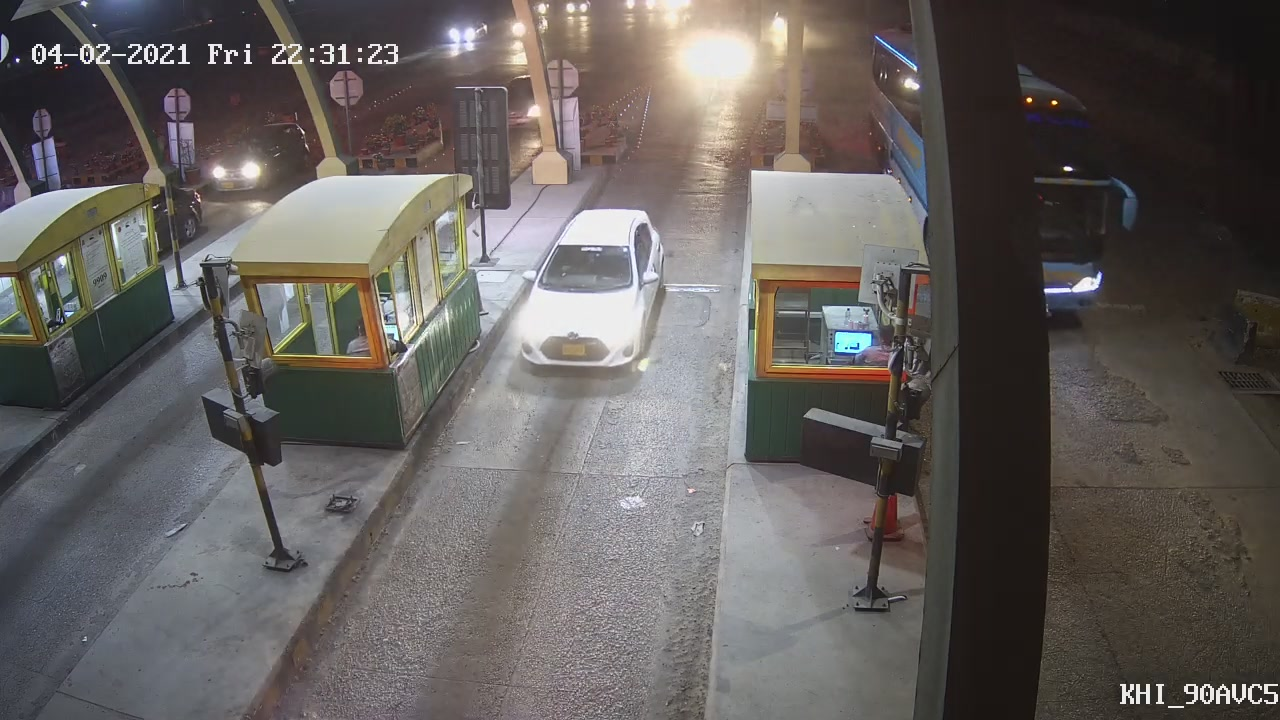F1: (508, 203, 672, 375)
